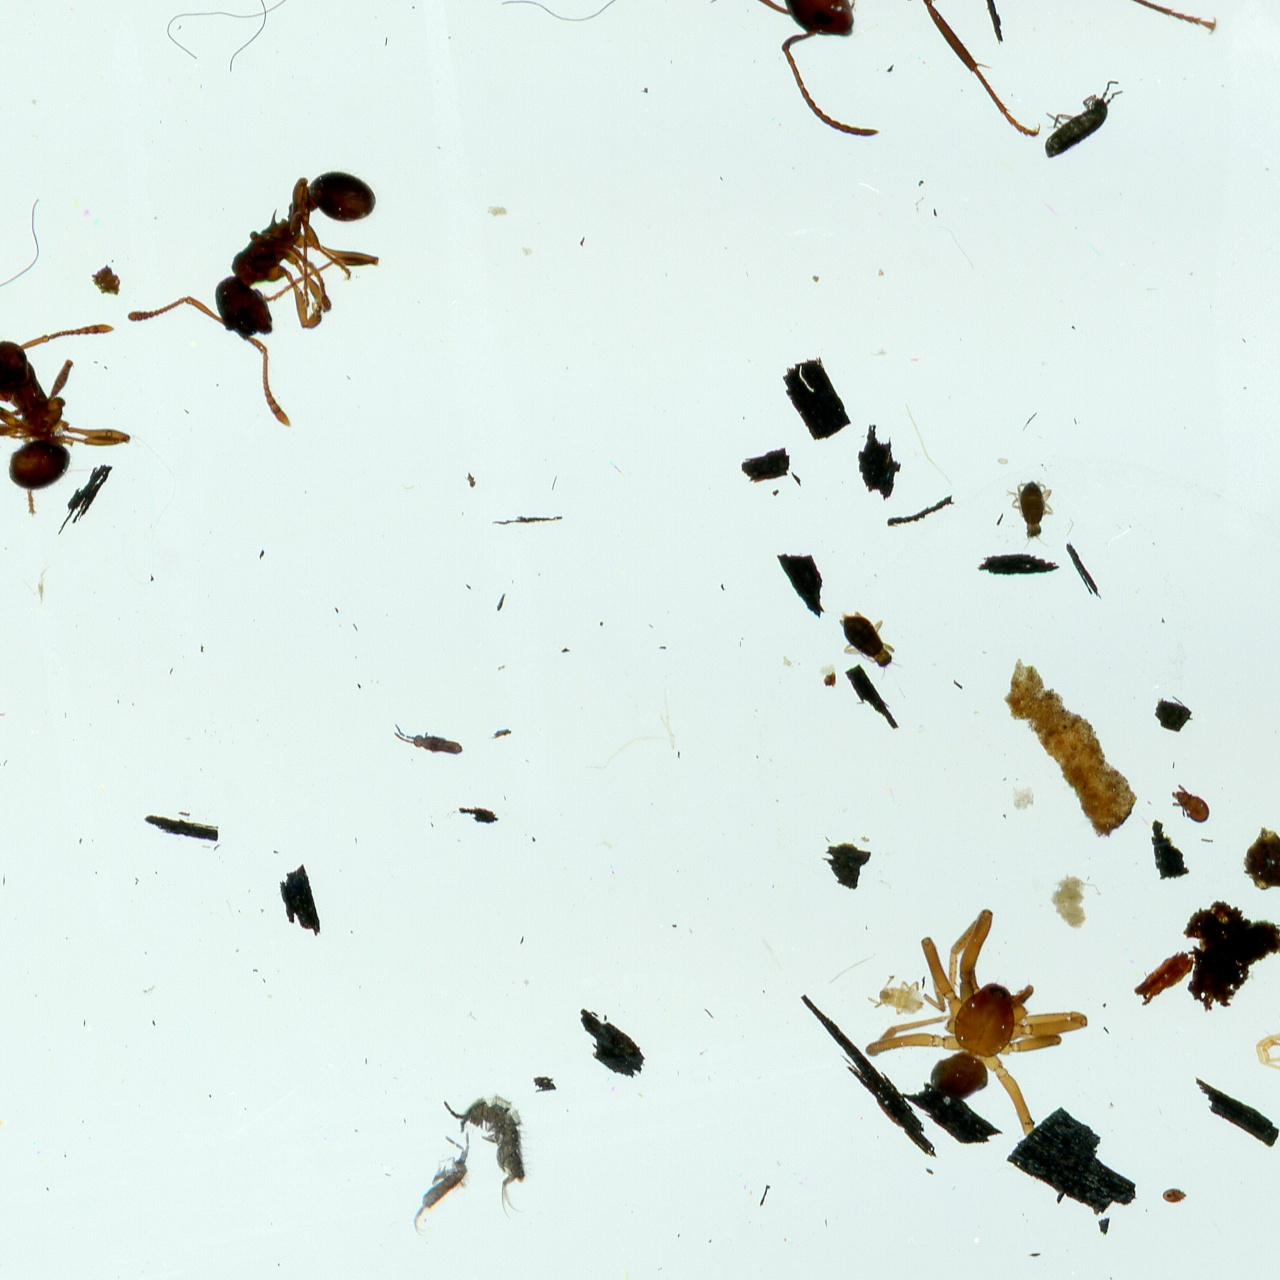arthropod: (111, 94, 438, 437), (694, 0, 1224, 151), (851, 881, 1122, 1155), (0, 290, 179, 554), (1014, 55, 1141, 179), (438, 1087, 547, 1219), (395, 1121, 490, 1254), (818, 587, 915, 694), (1003, 472, 1060, 558), (390, 715, 469, 764), (865, 971, 926, 1017), (1250, 996, 1280, 1088), (1169, 783, 1212, 828), (1162, 1186, 1189, 1206), (1272, 915, 1280, 964)
